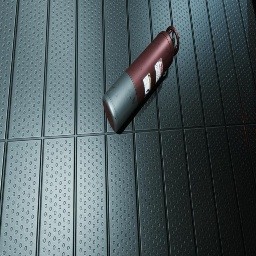NitrogenTank ,: (102, 26, 180, 132)
